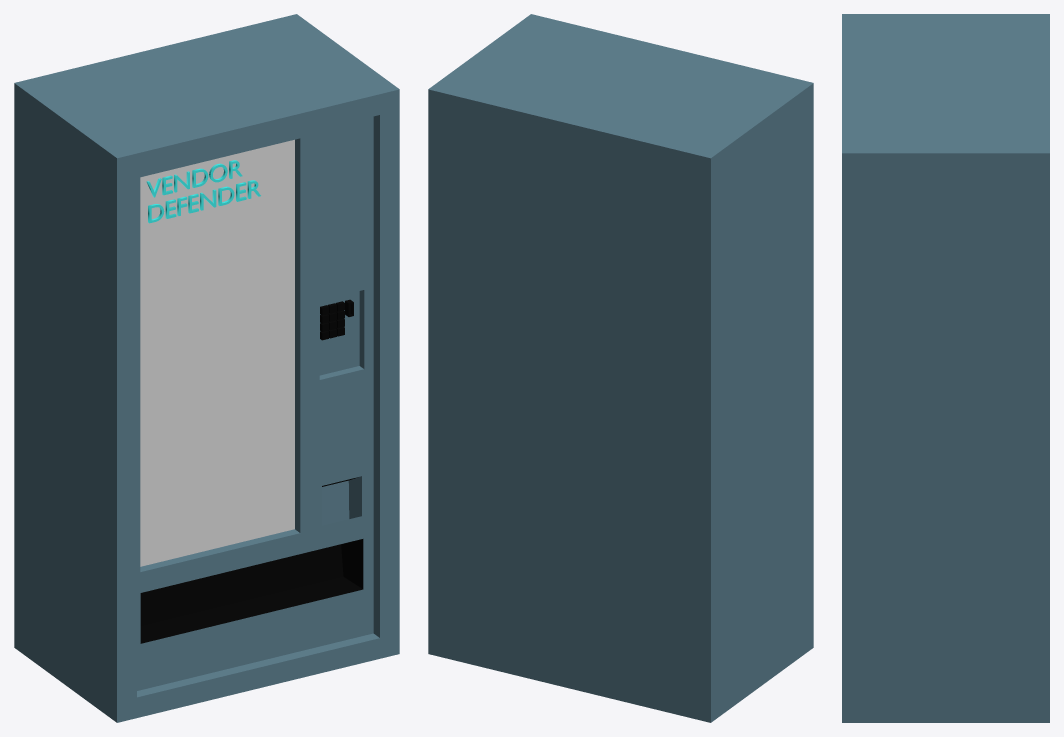
File: VendingMachine.fbx
3 renders of one model, left to right at view 1: azimuth 30°, elevation 25°; view 2: azimuth 150°, elevation 25°; view 3: azimuth 270°, elevation 25°, orthographic.
Visible parts, largest first — view 1: VendingMachine, Glass, VendorDefenderText; view 2: VendingMachine; view 3: VendingMachine.
Part boxes in pixels (x1,y1,x2,y2): VendingMachine: [14, 14, 399, 722]; Glass: [140, 139, 294, 566]; VendorDefenderText: [146, 160, 260, 223]; VendingMachine: [428, 14, 813, 722]; VendingMachine: [842, 14, 1049, 722].
Bounding box in the file's own units: 38.07 × 60.34 × 115.
